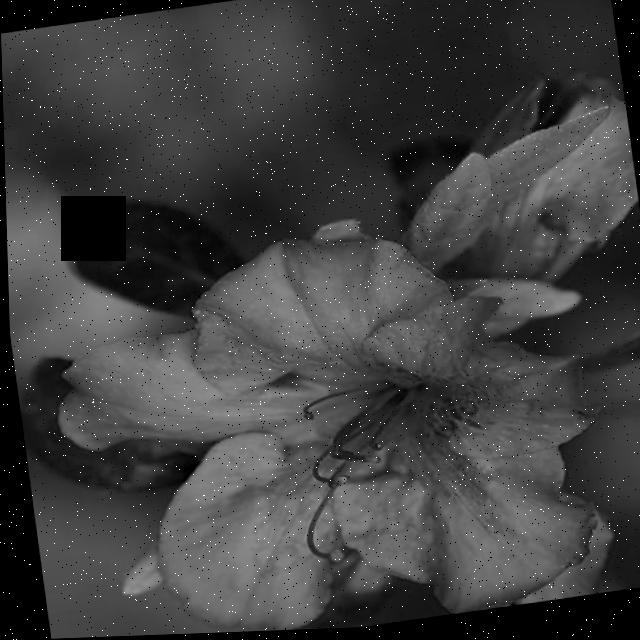azalea: (31, 211, 600, 639), (390, 36, 640, 360)
